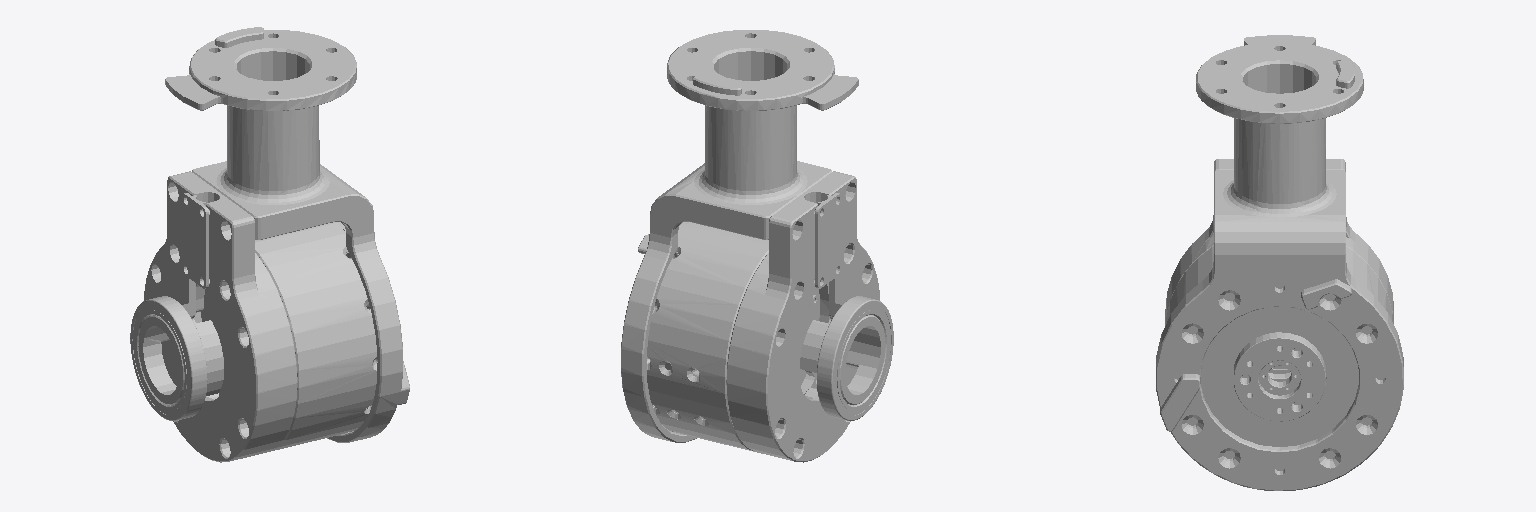
File: r_arm_pitch.obj
The picture shows the model from 3 angles: view 1: azimuth 30°, elevation 25°; view 2: azimuth 150°, elevation 25°; view 3: azimuth 270°, elevation 25°; orthographic projection.
Parts seen in each view (by area): view 1: obj1; view 2: obj1; view 3: obj1.
Part boxes in pixels (bbox=[...]): obj1: bbox=[130, 27, 409, 462]; obj1: bbox=[621, 30, 893, 462]; obj1: bbox=[1156, 35, 1403, 490].
Bounding box in the file's own units: 0.083 × 0.1618 × 0.0938.